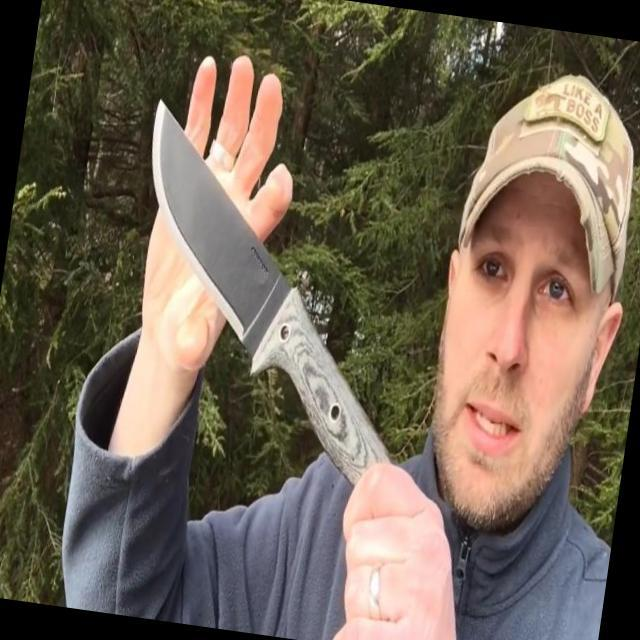Knife: (111, 86, 348, 401)
